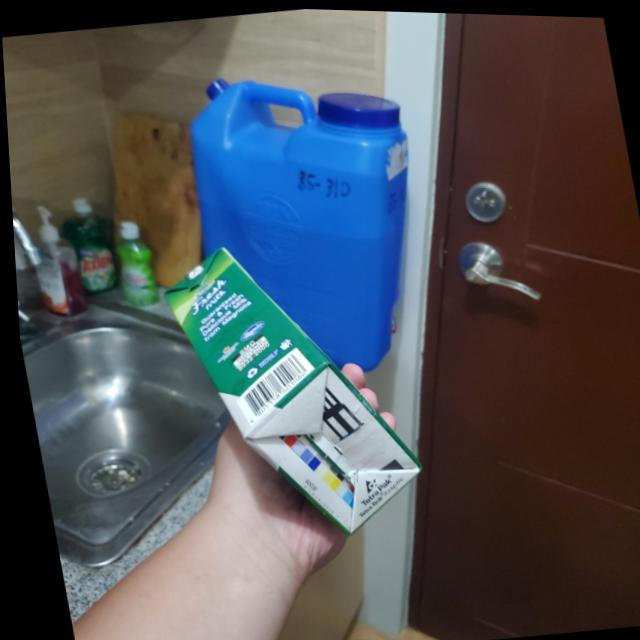milk: (152, 225, 432, 562)
